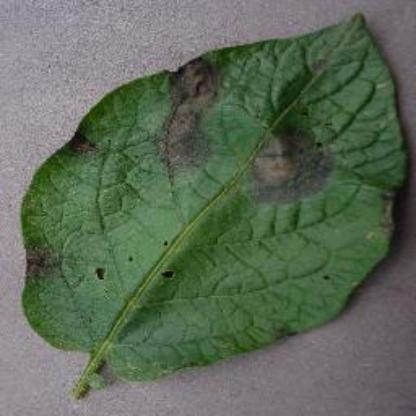Late-Blight: (10, 12, 410, 402)
